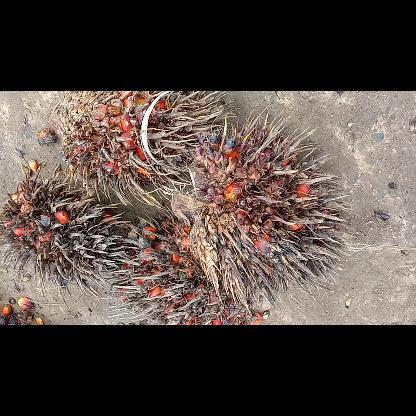Terlalu masak: (166, 106, 362, 314), (48, 91, 242, 217), (95, 208, 281, 324), (0, 167, 138, 311)
